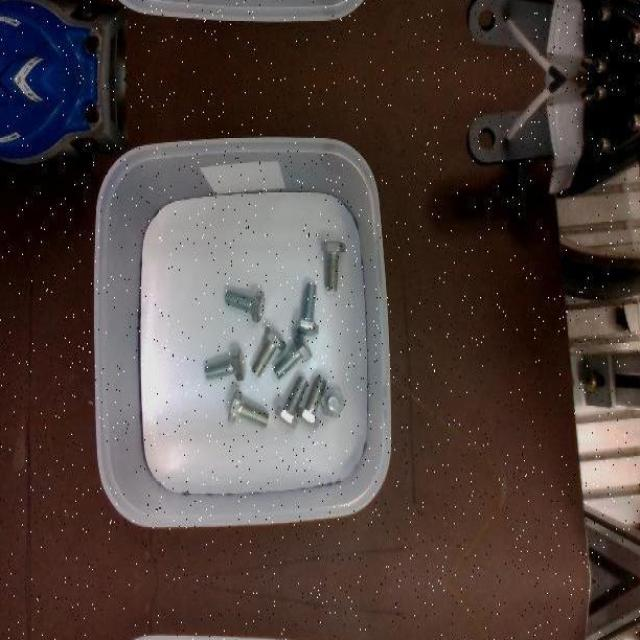screw: (252, 325, 287, 377), (275, 376, 309, 428), (274, 334, 314, 378), (297, 376, 326, 428), (228, 390, 269, 426), (204, 347, 246, 381), (295, 282, 320, 334), (225, 289, 264, 322), (322, 242, 347, 292), (321, 386, 345, 417)
